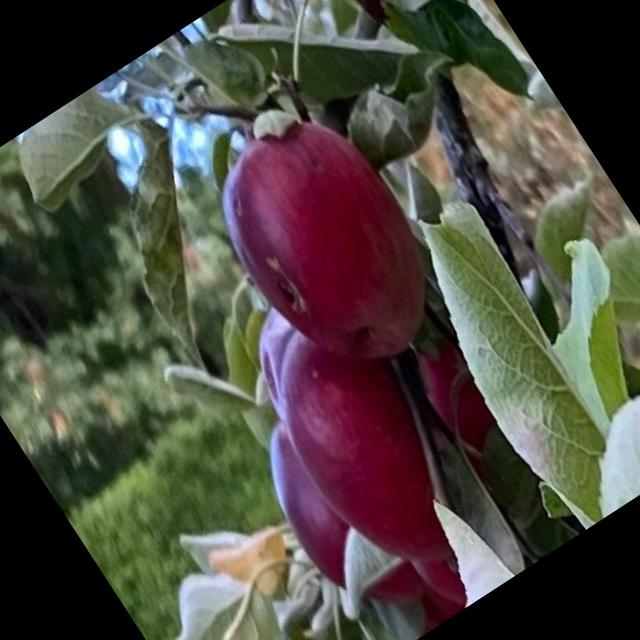Apples: (190, 96, 462, 393), (242, 300, 486, 580), (235, 418, 379, 598), (402, 332, 512, 462)
